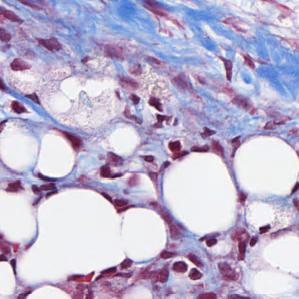inflammation: (162, 247, 209, 284), (95, 151, 129, 180), (162, 136, 191, 165)
